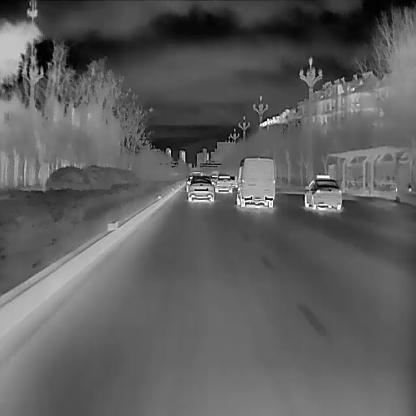car: (236, 157, 274, 208), (304, 174, 341, 210), (186, 176, 214, 202), (215, 174, 232, 192)
